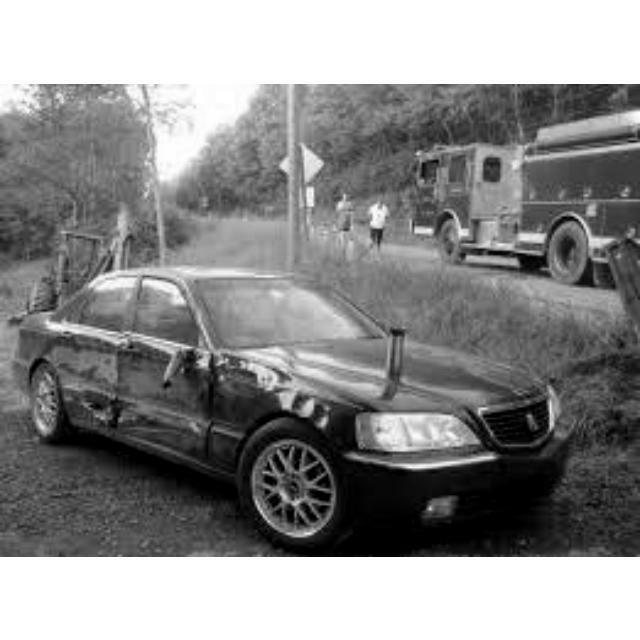doorouter-dent: (126, 346, 211, 446), (57, 329, 113, 431)
fender-dent: (224, 341, 339, 414)
